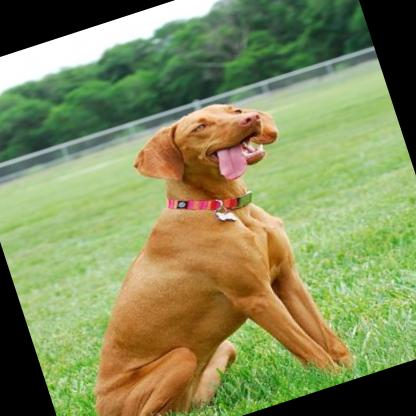vizsla: (10, 79, 360, 416)
